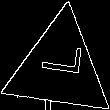L_W: (34, 49, 85, 87)
